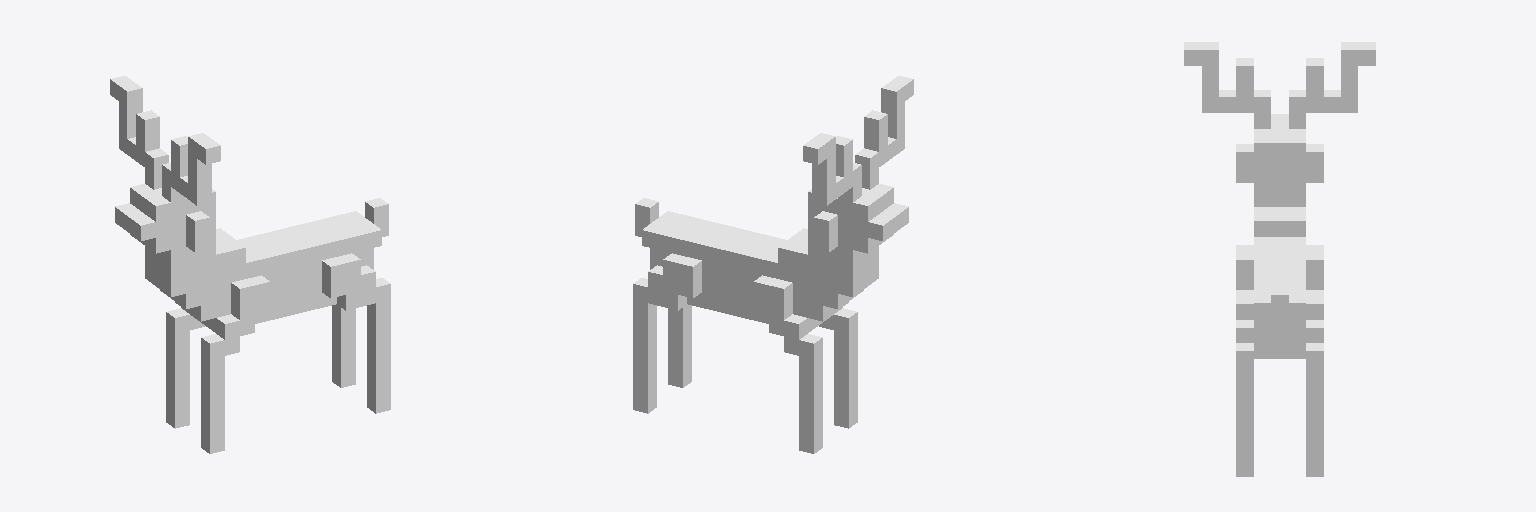
Rendered from Elk.obj.
3 renders of one model, left to right at view 1: azimuth 30°, elevation 25°; view 2: azimuth 150°, elevation 25°; view 3: azimuth 270°, elevation 25°, orthographic.
Visible parts, largest first — view 1: object 1; view 2: object 1; view 3: object 1.
Part boxes in pixels (left/top/right/bottom): object 1: left=110, top=76, right=390, bottom=453; object 1: left=633, top=76, right=913, bottom=453; object 1: left=1184, top=42, right=1375, bottom=476.
Size of the model in its own units: 1.7 by 2.1 by 1.1.